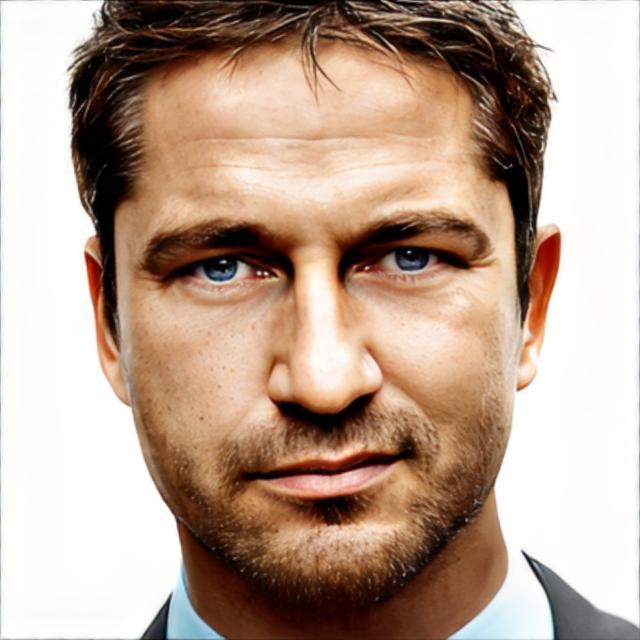content: (117, 32, 524, 612)
